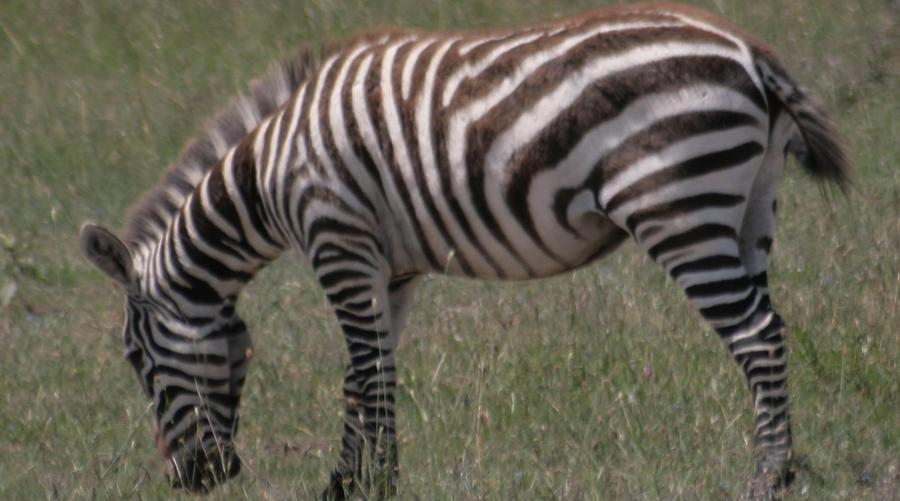zebra_plains: (264, 6, 779, 282)
